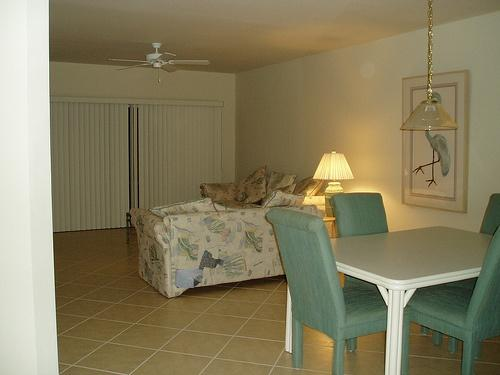tampered: (176, 251, 224, 288)
